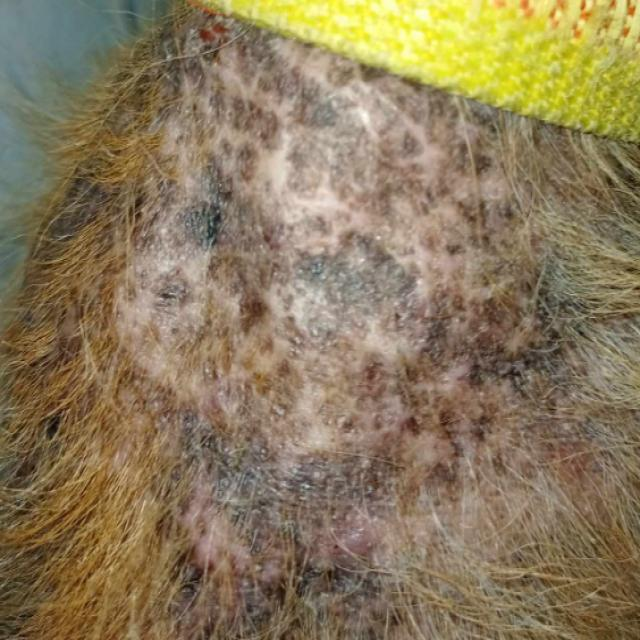demodicosis: (23, 81, 554, 597)
